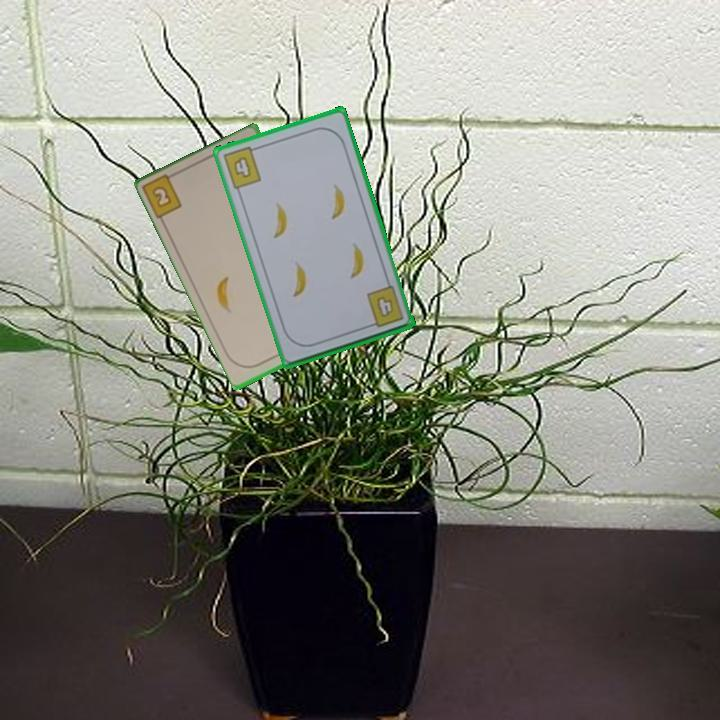2b: (141, 168, 185, 223)
4b: (219, 143, 264, 192), (363, 282, 407, 331)
